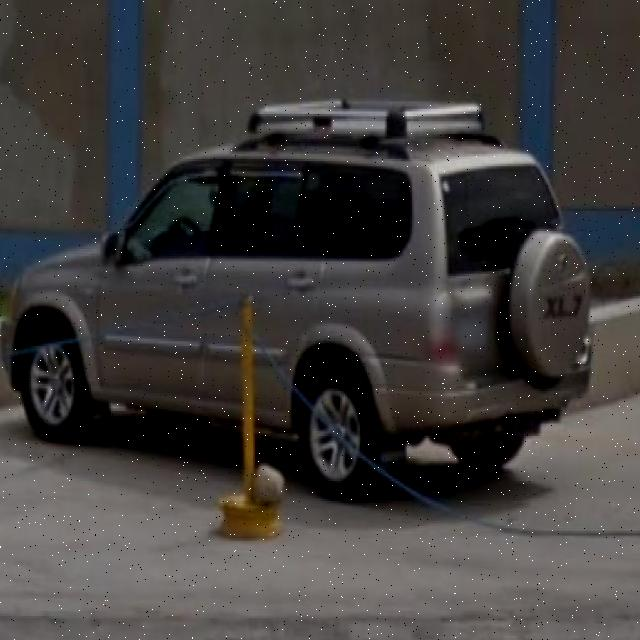car: (0, 111, 601, 504)
